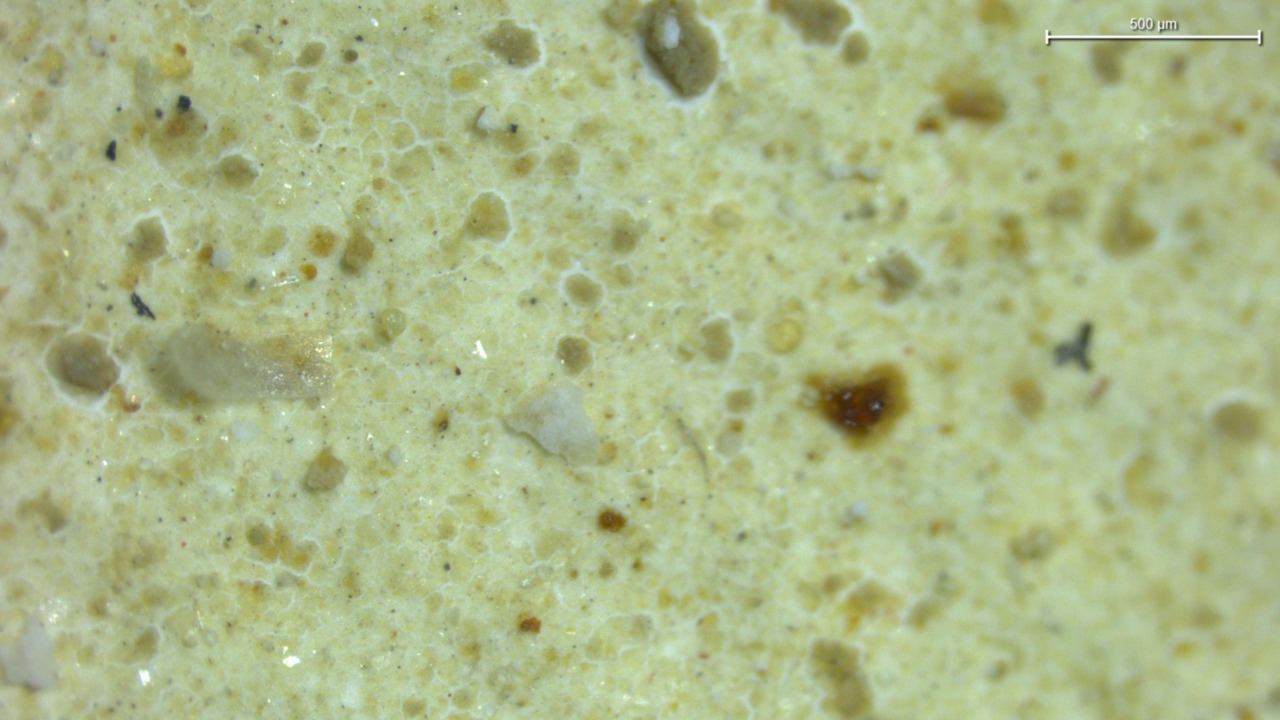microplastic_fragment: (152, 323, 331, 400), (506, 382, 600, 462)
